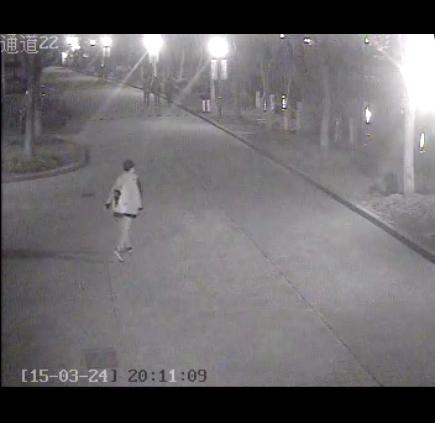person: (89, 140, 162, 269), (124, 63, 154, 118), (149, 67, 164, 119), (163, 67, 175, 124)
